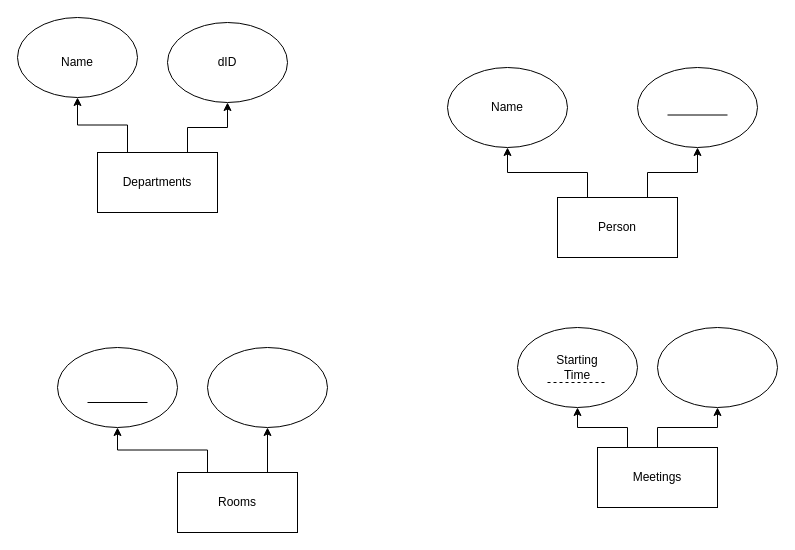
The diagram is 795 pixels wide and 550 high, and some of its shapes have lost their labels. The shapes that lost their labels are listed below. From the top down, each one's centre as x and y in pixels, then its label:
At (697,107): "SSN".
At (117,387): "Room number".
At (267,387): "Capacity".
At (717,367): "Agenda".
